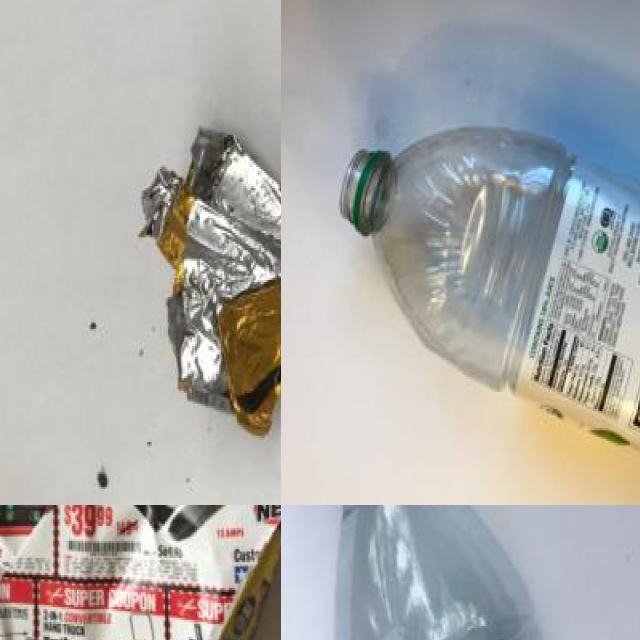paper: (0, 505, 281, 640)
plastic: (339, 132, 640, 491), (298, 505, 625, 640)
trash: (128, 88, 281, 450)
